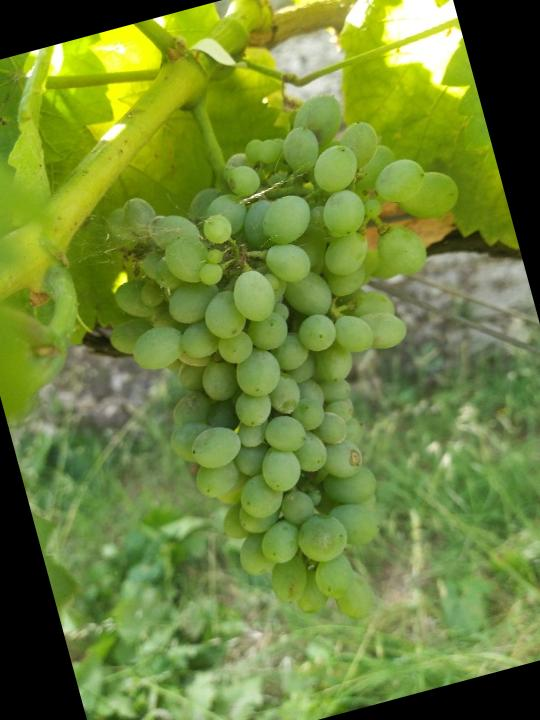grape: (65, 63, 540, 668)
